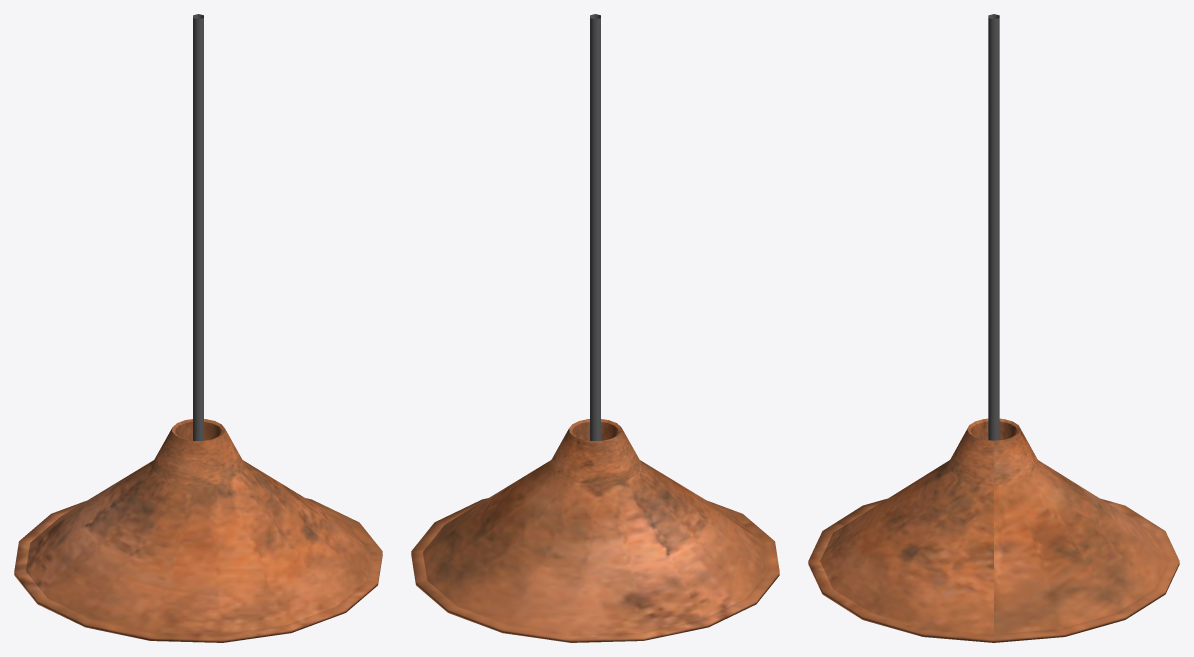
File: hangingLight.fbx
3 views of the same model, side by side, from view 1: azimuth 30°, elevation 25°; view 2: azimuth 150°, elevation 25°; view 3: azimuth 270°, elevation 25° (orthographic).
Visible parts, largest first — view 1: polySurface318, cordHinge1, cordHinge4, cordHinge2, cordHinge3, cordHinge5; view 2: polySurface318, cordHinge1, cordHinge4, cordHinge2, cordHinge3, cordHinge5; view 3: polySurface318, cordHinge1, cordHinge4, cordHinge2, cordHinge3, cordHinge5.
Part boxes in pixels (x1,y1,x2,y2): polySurface318: (14,419,382,642); cordHinge1: (193,14,203,107); cordHinge4: (193,277,203,366); cordHinge2: (193,105,203,194); cordHinge3: (193,193,203,278); cordHinge5: (193,365,203,440); polySurface318: (411,419,779,642); cordHinge1: (590,14,600,107); cordHinge4: (590,277,600,366); cordHinge2: (590,104,600,194); cordHinge3: (590,193,600,278); cordHinge5: (590,365,600,440); polySurface318: (808,418,1179,642); cordHinge1: (988,14,999,107); cordHinge4: (988,277,999,366); cordHinge2: (988,104,999,194); cordHinge3: (988,191,999,278); cordHinge5: (988,365,999,440).
Size of the model in its own units: 0.5177 by 0.866 by 0.5177.
